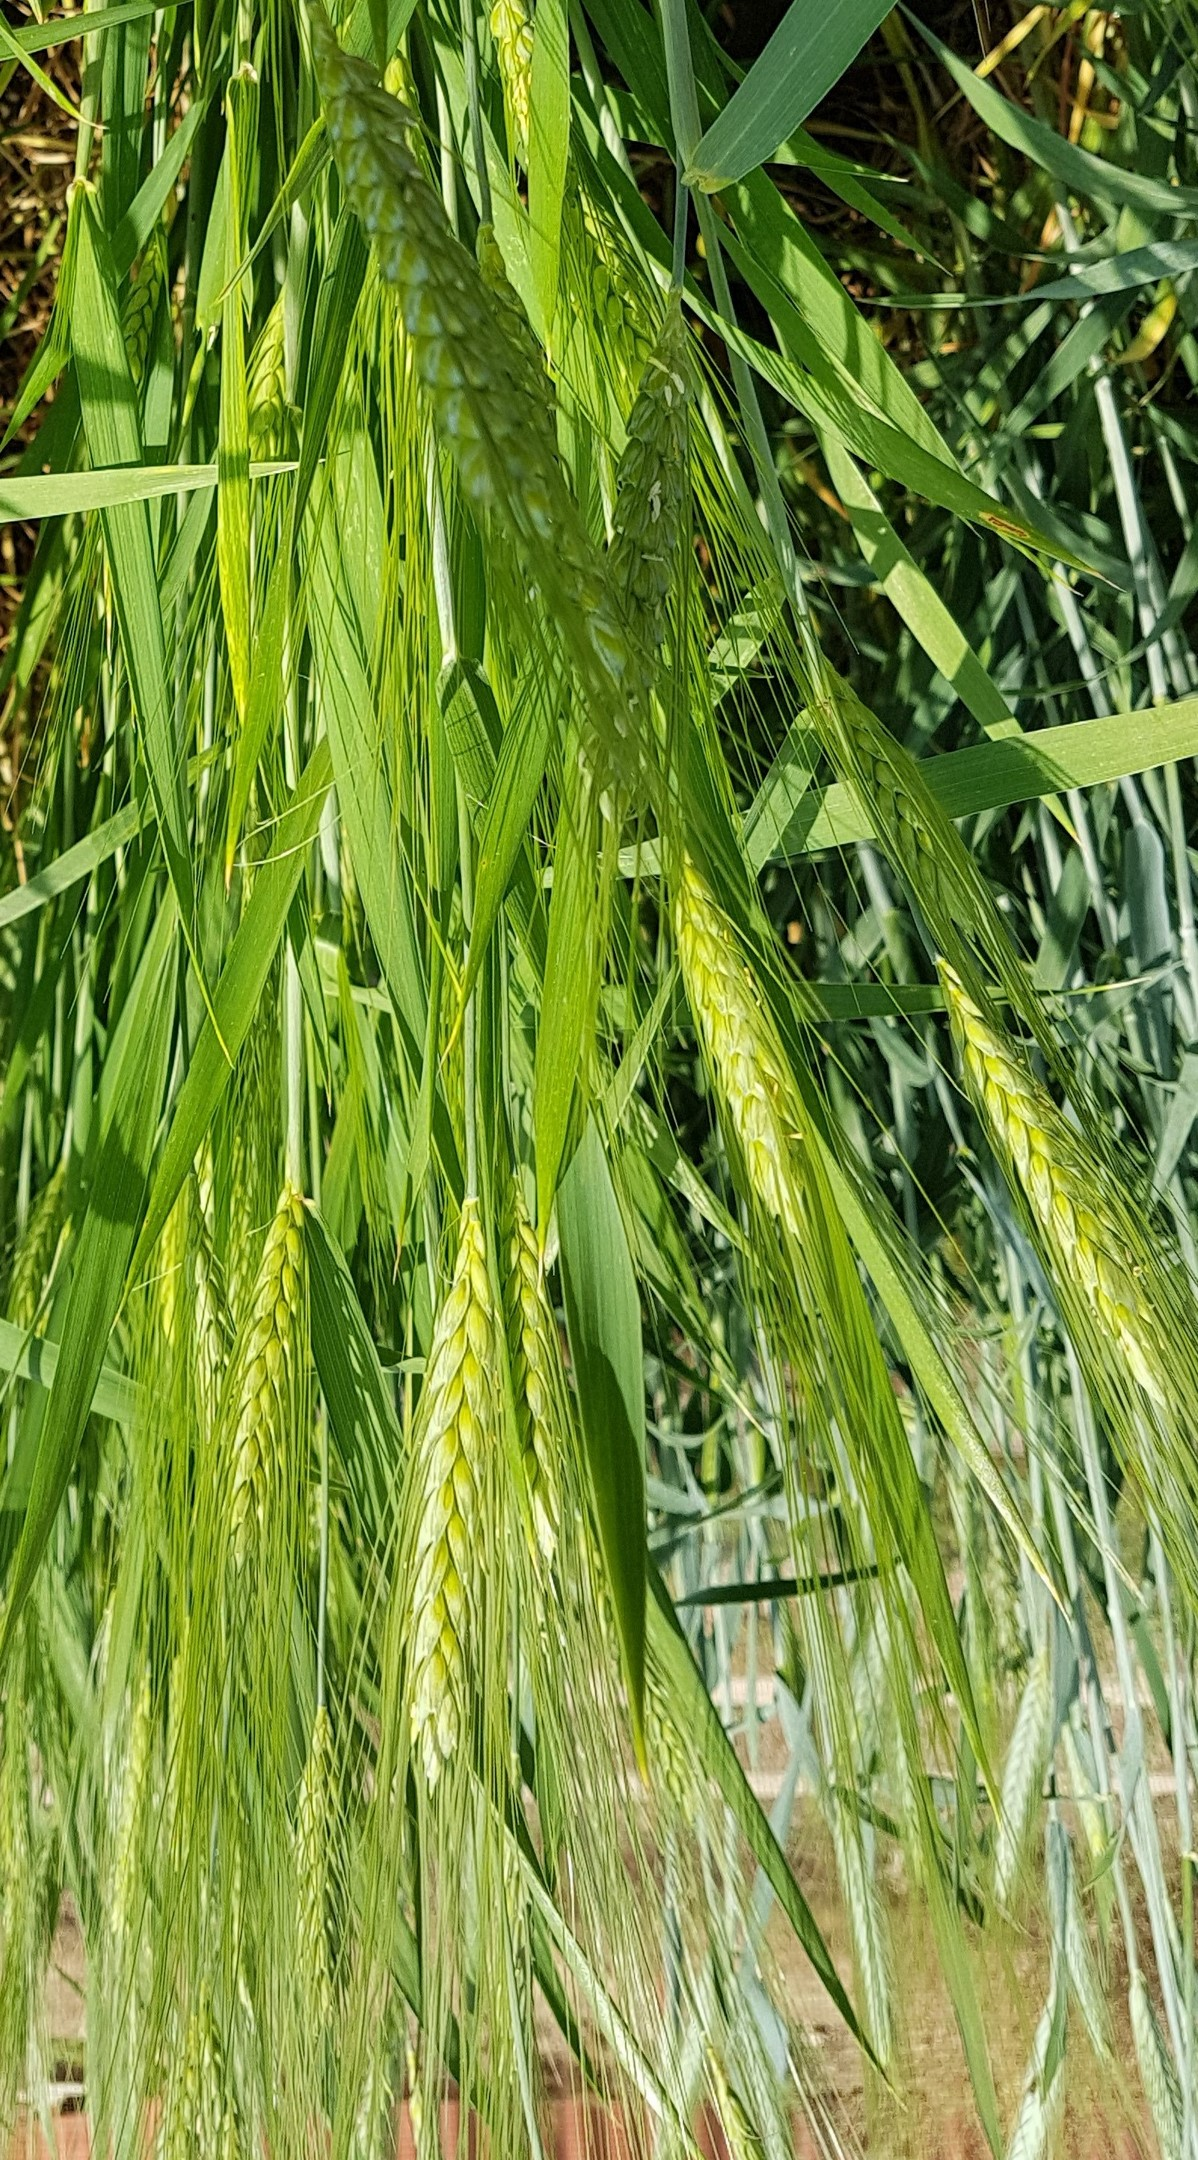Healthy Wheat: (388, 1216, 519, 1840)
